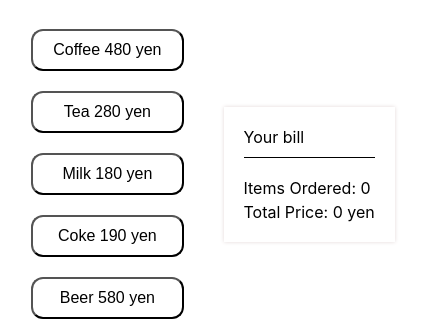
Test: ordering multiple drinks updates count and price
The image size is (428, 336).
Click the button "Coffee 480 yen": (107, 50) left=31, top=29, right=184, bottom=71
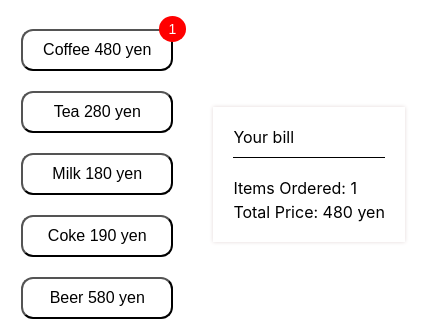
Click the button "Coffee 480 yen 1": (97, 50) left=21, top=29, right=173, bottom=71
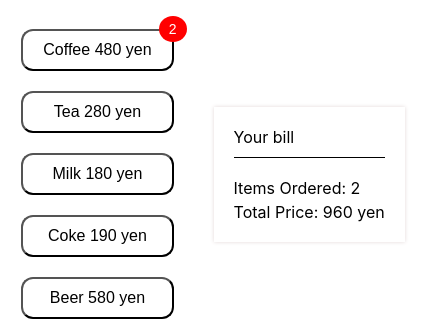
Click the button "Coffee 480 yen 2": (97, 50) left=21, top=29, right=174, bottom=71
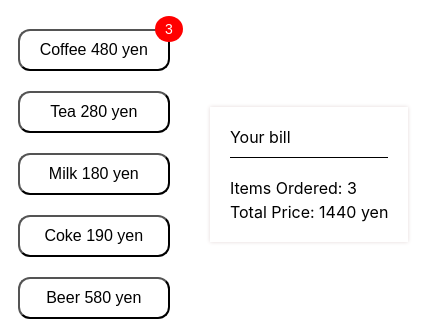
Click the button "Milk 180 yen": (94, 174) left=18, top=153, right=170, bottom=195
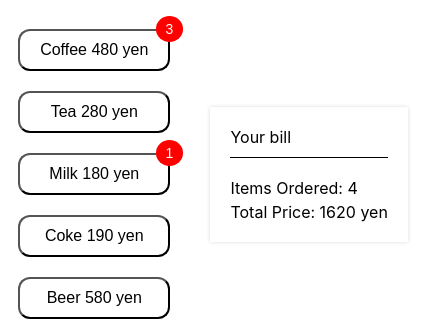
Click the button "Beer 580 yen": (94, 298) left=18, top=277, right=170, bottom=319
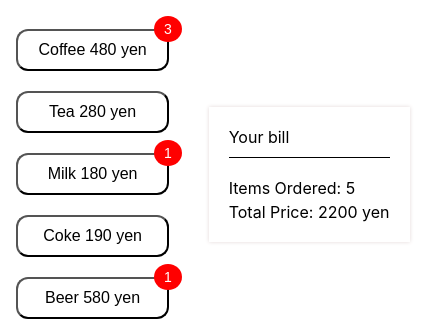
Click the button "Beer 580 yen 1": (93, 298) left=16, top=277, right=169, bottom=319
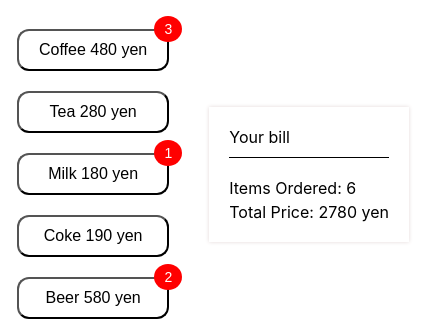
Expected: the text "Items Ordered: 6" is shown, left=229, top=178, right=356, bottom=198
Expected: the text "Total Price: 2780 yen" is shown, left=229, top=202, right=389, bottom=222
